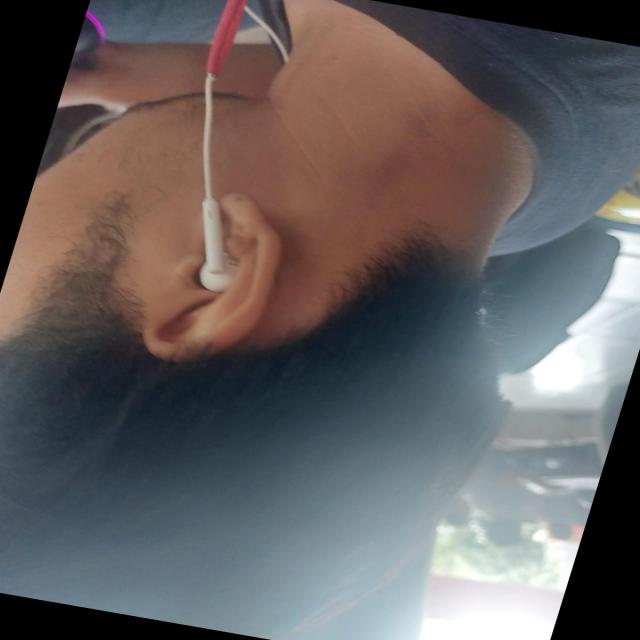earphone: (160, 4, 299, 330)
